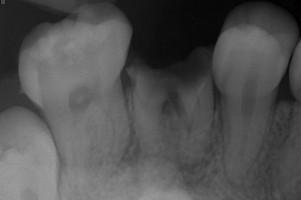Endo-Periodontal Lesion: (162, 93, 186, 119)
